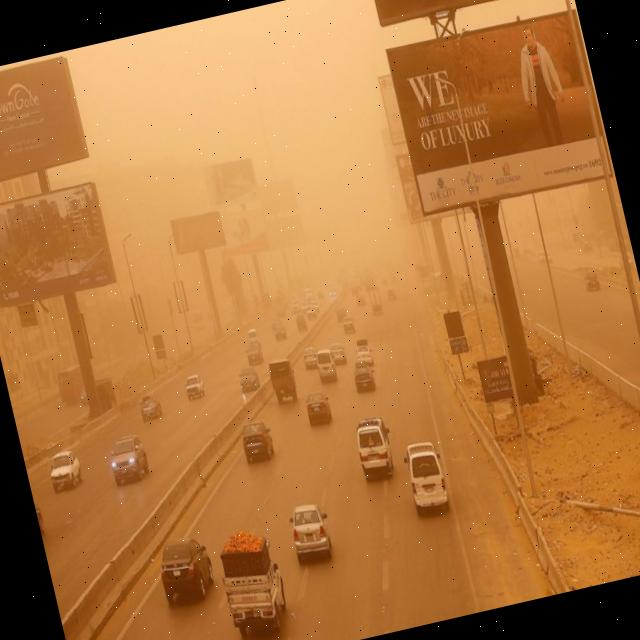bus: (211, 524, 292, 636), (268, 358, 300, 402), (190, 304, 208, 336), (368, 286, 384, 312)
car: (153, 532, 218, 606), (400, 436, 453, 514), (350, 414, 398, 482), (286, 498, 334, 562), (104, 430, 153, 485), (44, 446, 86, 494), (238, 418, 278, 466), (301, 388, 335, 428), (350, 358, 378, 392), (236, 364, 262, 394), (317, 350, 339, 384), (138, 391, 162, 421), (354, 336, 376, 364), (243, 341, 266, 366), (301, 344, 321, 372), (183, 374, 205, 398), (582, 269, 602, 293), (328, 344, 347, 366), (341, 314, 357, 334), (272, 323, 288, 342), (294, 314, 308, 332), (306, 304, 318, 322)
truck: (54, 357, 98, 403)
